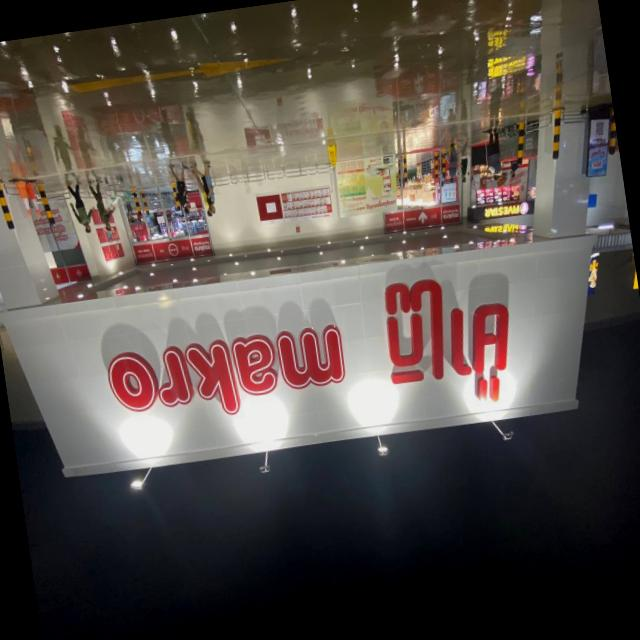Yolov11kh: (373, 267, 514, 422)
